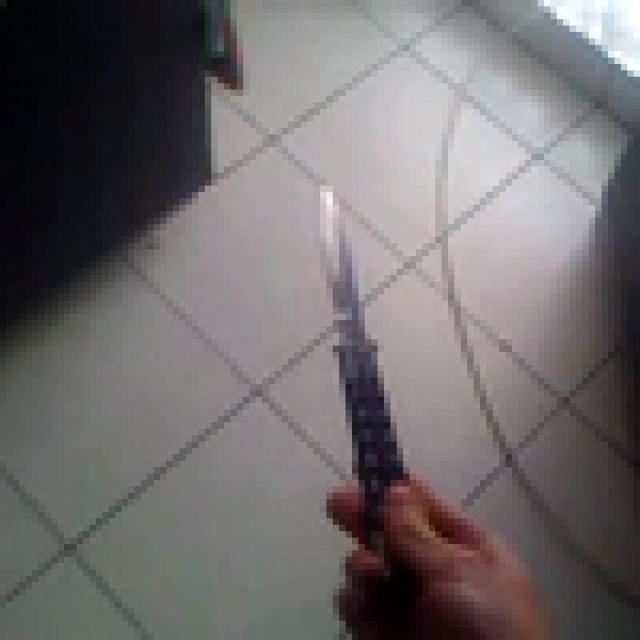knife: (250, 160, 474, 576)
